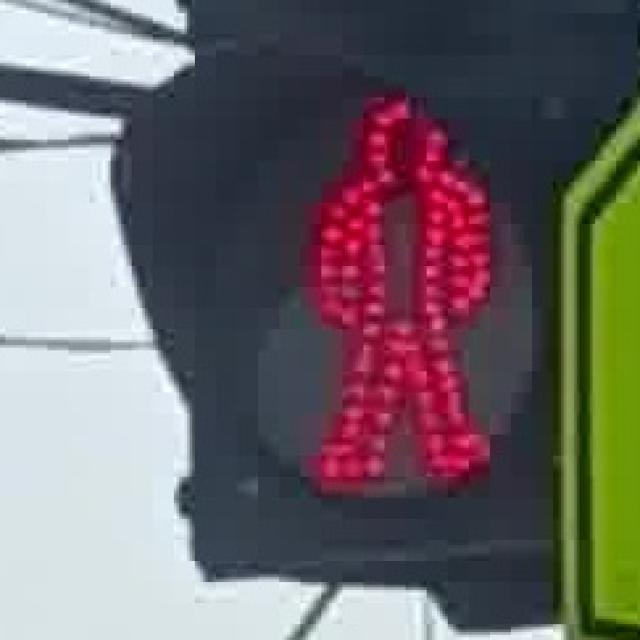red-crossing: (276, 68, 511, 506)
